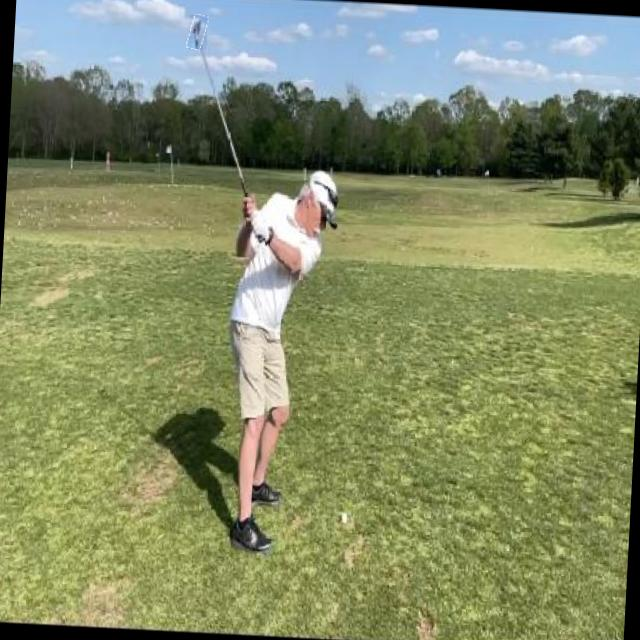club head: (188, 15, 208, 50)
